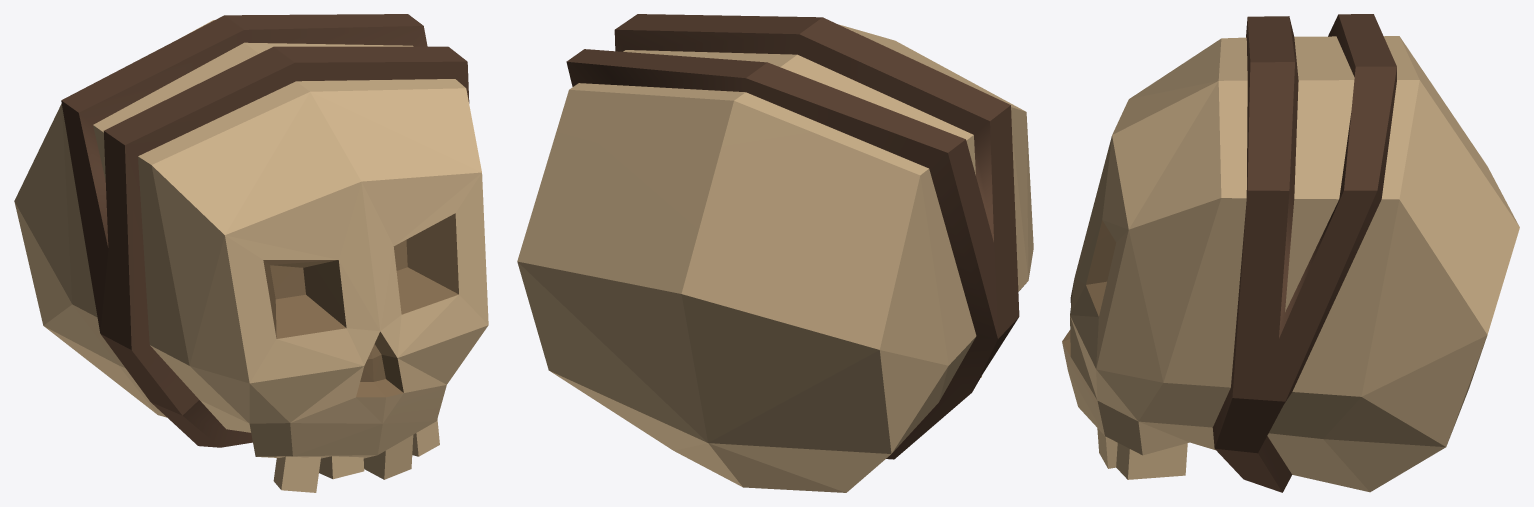
Rendered from SM_Item_Skull_Attachment_01.glb.
3 views of the same model, side by side, from view 1: azimuth 30°, elevation 25°; view 2: azimuth 150°, elevation 25°; view 3: azimuth 270°, elevation 25° (orthographic). The views are drawn at different scales.
Visible parts, largest first — view 1: SM_Item_Skull_Attachment_01; view 2: SM_Item_Skull_Attachment_01; view 3: SM_Item_Skull_Attachment_01.
Part boxes in pixels (left/top/right/bottom): SM_Item_Skull_Attachment_01: left=14, top=14, right=488, bottom=492; SM_Item_Skull_Attachment_01: left=517, top=14, right=1033, bottom=492; SM_Item_Skull_Attachment_01: left=1062, top=14, right=1519, bottom=492.
Size of the model in its own units: 0.00141 by 0.00146 by 0.00152.
1 material, 1 textured.
